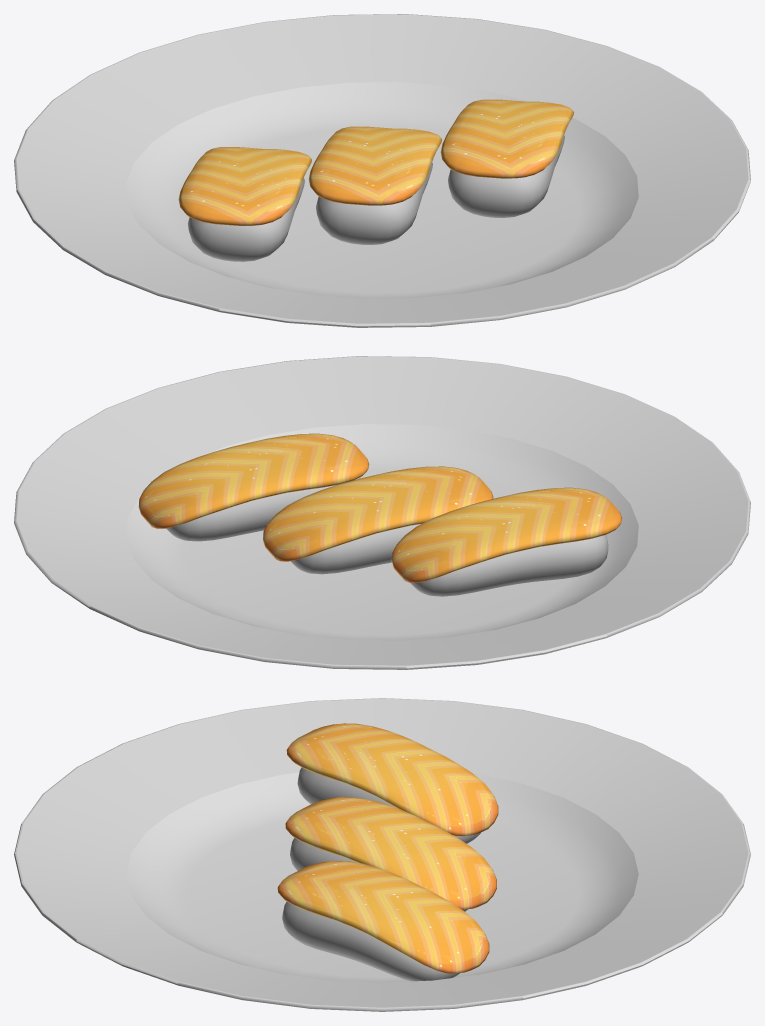
The model's file is nigiri_sushi_tabak.fbx.
The picture shows the model from 3 angles, top to bottom: view 1: azimuth 30°, elevation 25°; view 2: azimuth 150°, elevation 25°; view 3: azimuth 270°, elevation 25°; orthographic projection.
Visible parts, largest first — view 1: Nigiri_Sushi_tabak, nigiri2, nigiri_3, nigiri1; view 2: Nigiri_Sushi_tabak, nigiri1, nigiri_3, nigiri2; view 3: Nigiri_Sushi_tabak, nigiri_3, nigiri1, nigiri2.
Boxes of the visible parts, x1,y1,x2,y2 form: Nigiri_Sushi_tabak: (14,14,750,327); nigiri2: (308,126,441,244); nigiri_3: (440,99,573,217); nigiri1: (178,147,311,261); Nigiri_Sushi_tabak: (14,356,750,669); nigiri1: (391,487,622,596); nigiri_3: (138,433,369,541); nigiri2: (263,466,493,574); Nigiri_Sushi_tabak: (14,698,750,1011); nigiri_3: (277,861,489,981); nigiri1: (286,723,498,843); nigiri2: (285,797,496,911).
Size of the model in its own units: 46.09 by 5.32 by 46.09.
